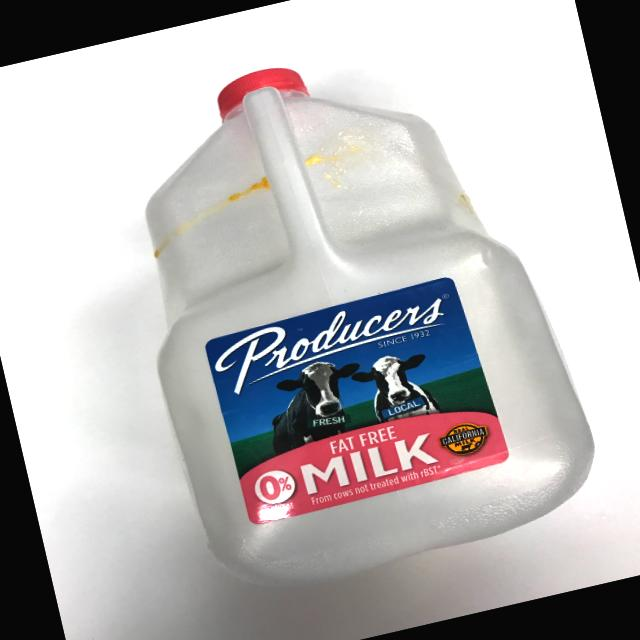Plastic: (60, 0, 640, 632)
